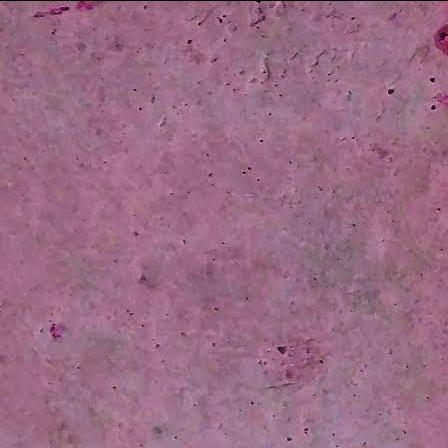spalling: (45, 317, 68, 339)
